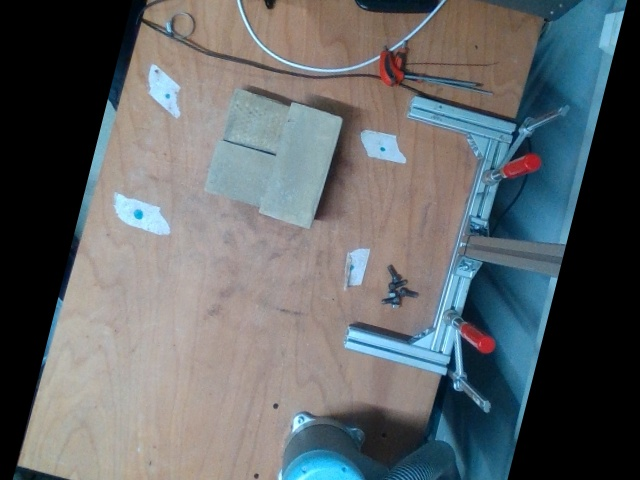brick: (258, 102, 340, 227)
